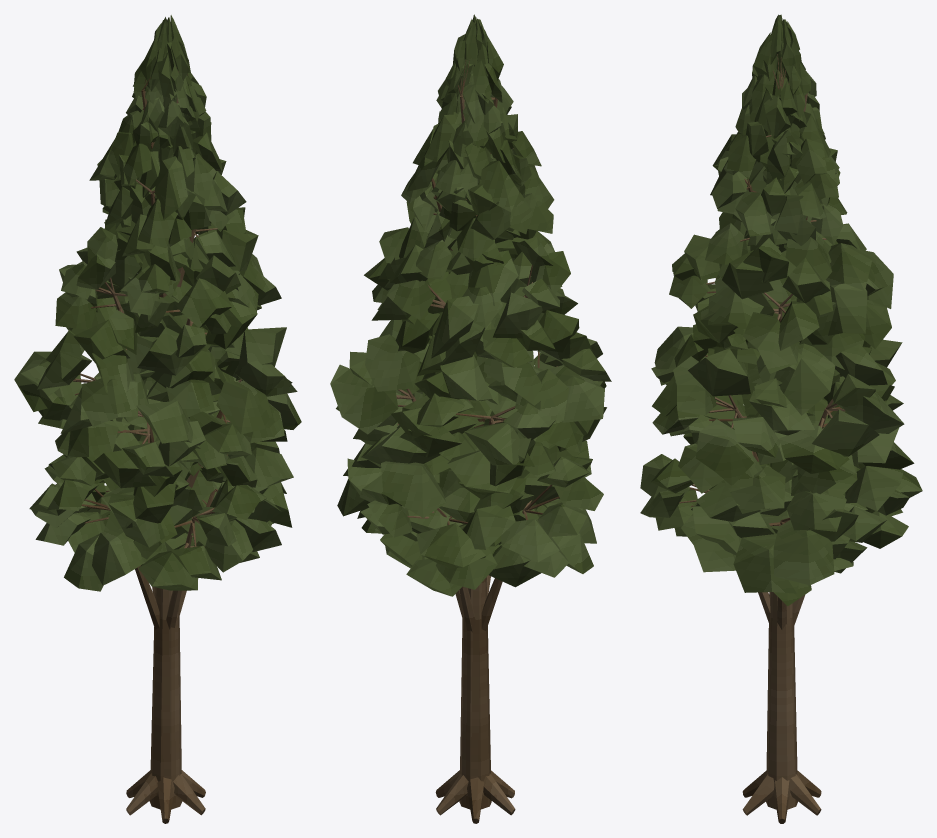
The model's file is tree_02.glb.
3 views of the same model, side by side, from view 1: azimuth 30°, elevation 25°; view 2: azimuth 150°, elevation 25°; view 3: azimuth 270°, elevation 25° (orthographic).
Parts seen in each view (by area): view 1: tree_02; view 2: tree_02; view 3: tree_02.
Boxes of the visible parts, x1=… form: tree_02: x1=14, y1=15, x2=301, y2=823; tree_02: x1=330, y1=14, x2=611, y2=823; tree_02: x1=640, y1=14, x2=922, y2=823.
Bounding box in the file's own units: 2 × 6.2 × 2.
Materials: 2 (2 with a texture image).
